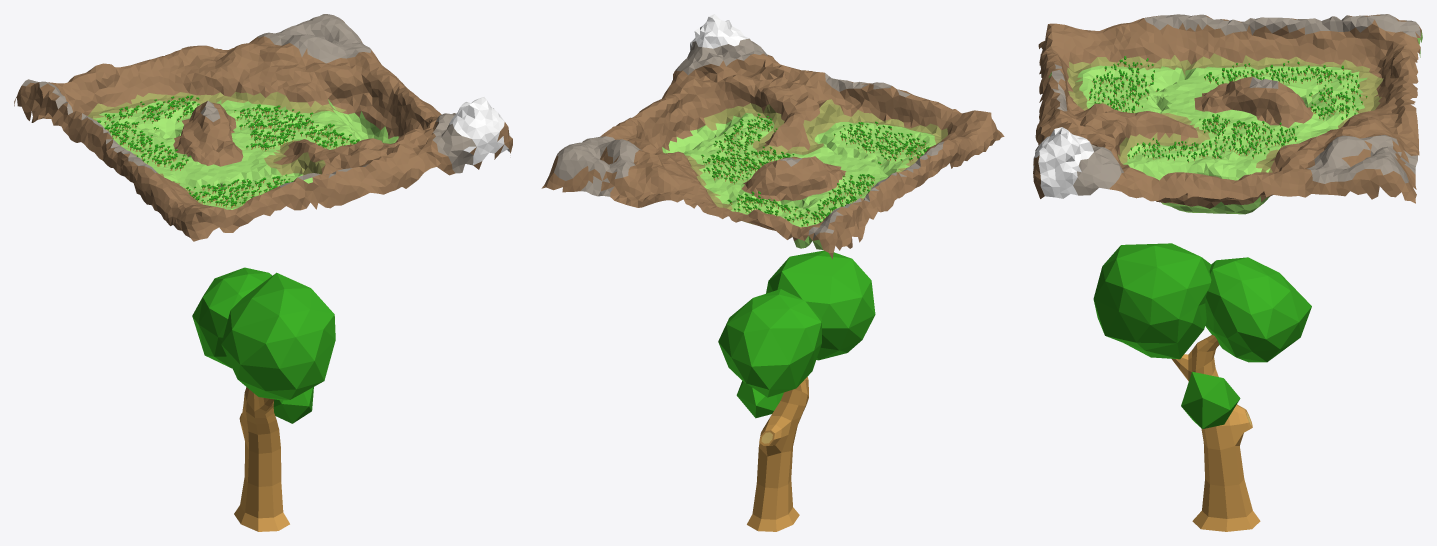
Rendered from bestterrainwithrees.fbx.
3 renders of one model, left to right at view 1: azimuth 30°, elevation 25°; view 2: azimuth 150°, elevation 25°; view 3: azimuth 270°, elevation 25°, orthographic. The views are drawn at different scales.
Visible parts, largest first — view 1: Plane, Tree_1; view 2: Plane, Tree_1; view 3: Plane, Tree_1.
Boxes of the visible parts, box(x1,y1,x2,y2) form: Plane: box(14, 14, 512, 241); Tree_1: box(192, 267, 335, 531); Plane: box(541, 14, 1004, 258); Tree_1: box(718, 250, 875, 531); Plane: box(1033, 14, 1422, 214); Tree_1: box(1093, 243, 1311, 531).
Bounding box in the file's own units: 81151 × 106172 × 80764.
